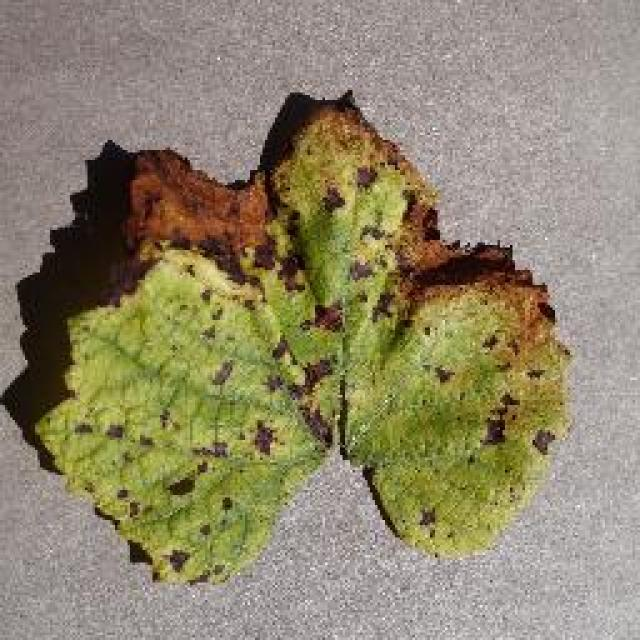Blight Fungus: (76, 115, 558, 568)
